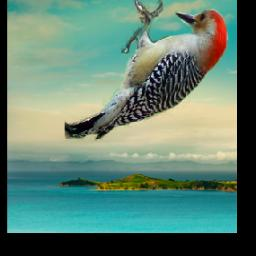Woodpecker: (65, 0, 230, 144)
